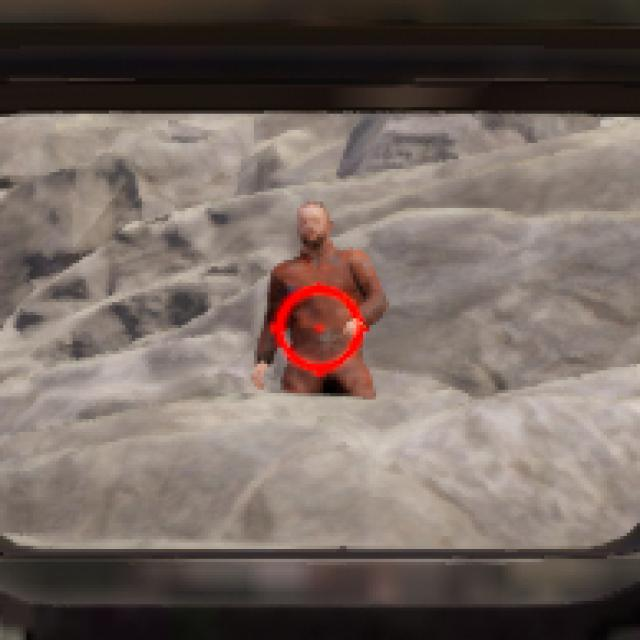Player: (254, 202, 389, 396)
